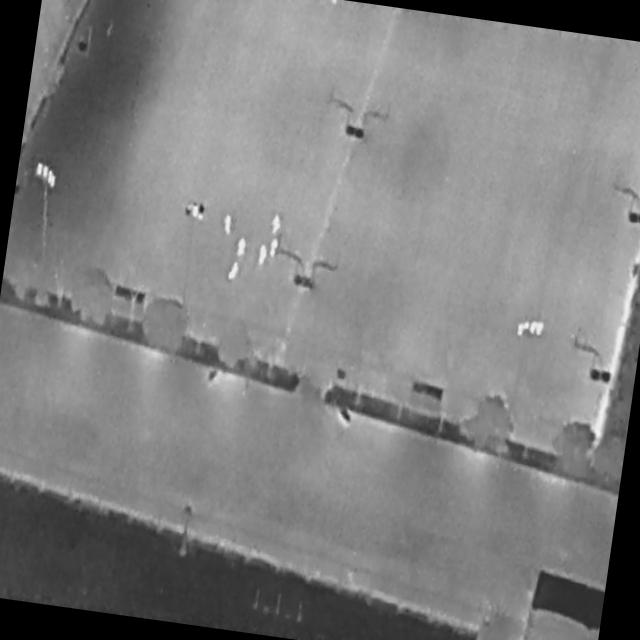person: (258, 243, 270, 267), (271, 214, 284, 236), (228, 261, 241, 283), (236, 237, 248, 259), (223, 213, 234, 236), (269, 238, 280, 260)
